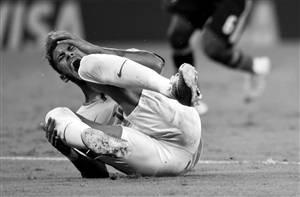falling: (31, 16, 206, 179)
